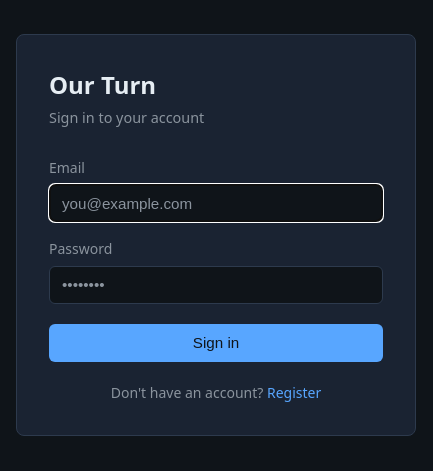
Test: Login page › shows error message on login failure
The width and height of the screenshot is (433, 471).
In the field with placeholder "you@example.com": [216, 203] box [49,184,383,222], type "bad@example.com"
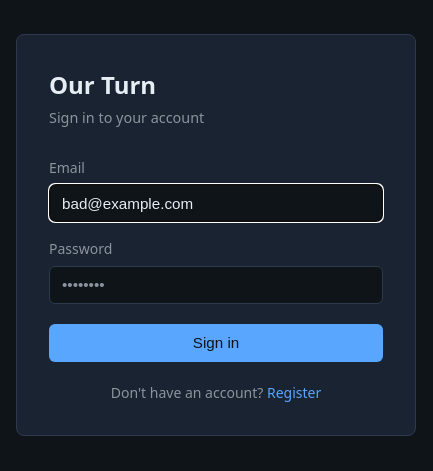
In the password field with placeholder "••••••••": [216, 285] box [49,266,383,304], type "wrongpass"
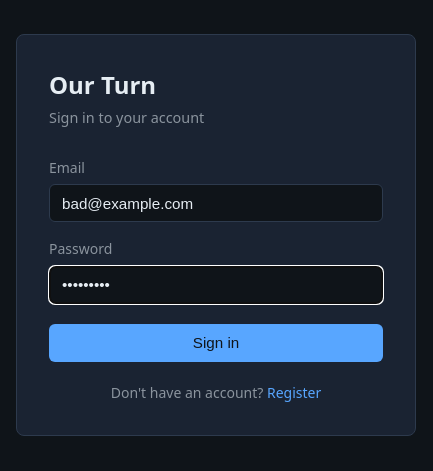
Click the button "Sign in": [216, 343] box [49,324,383,362]
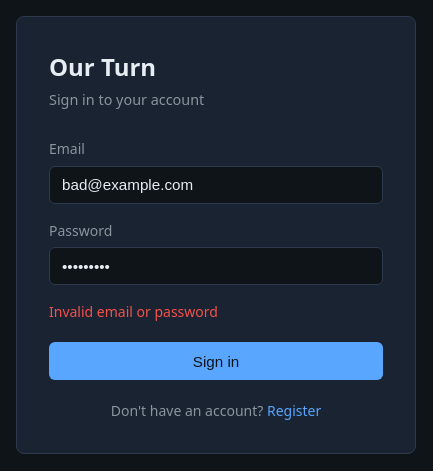
Now the text "Invalid email or password" is shown, box [49,302,218,322]
